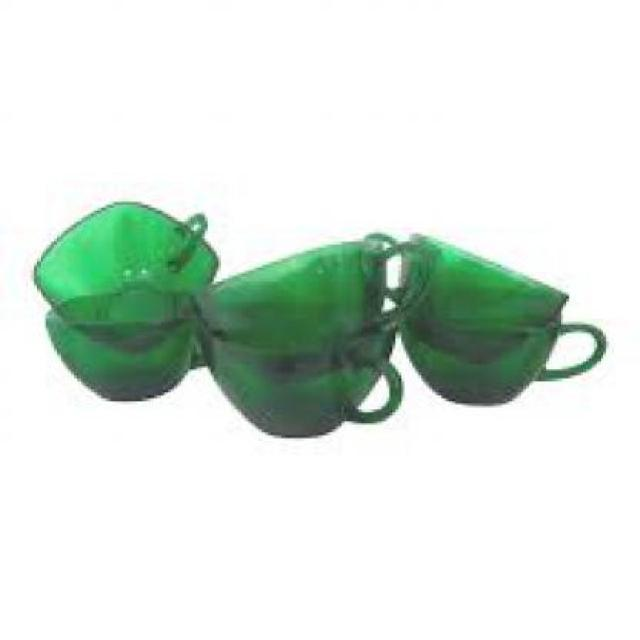kaca: (32, 200, 217, 348), (197, 311, 401, 438), (185, 231, 429, 335), (395, 290, 603, 408), (362, 222, 566, 324), (43, 293, 205, 402)
